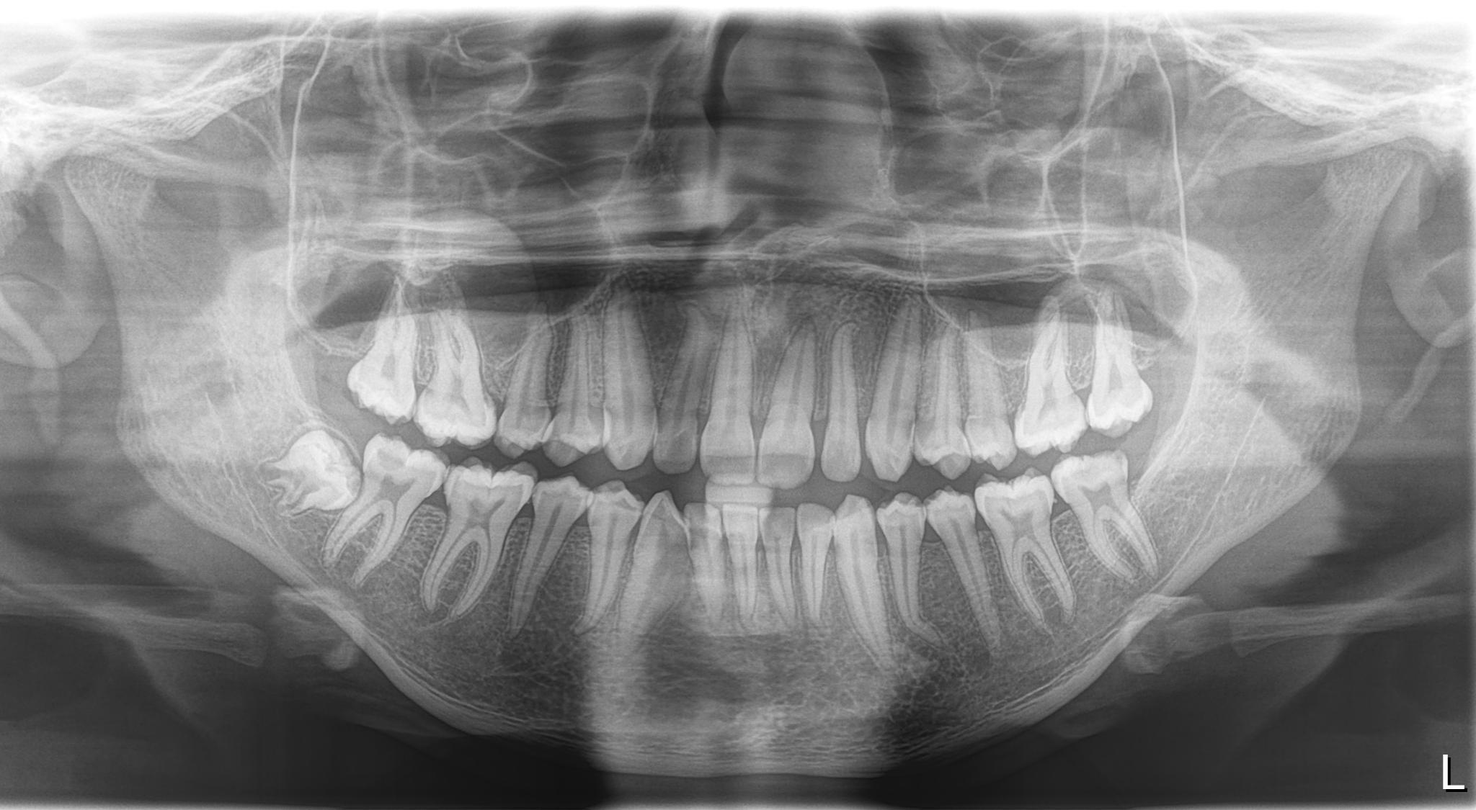Impacted Third Molar: (265, 437, 358, 511)
Missing Tooth: (303, 311, 363, 412)
